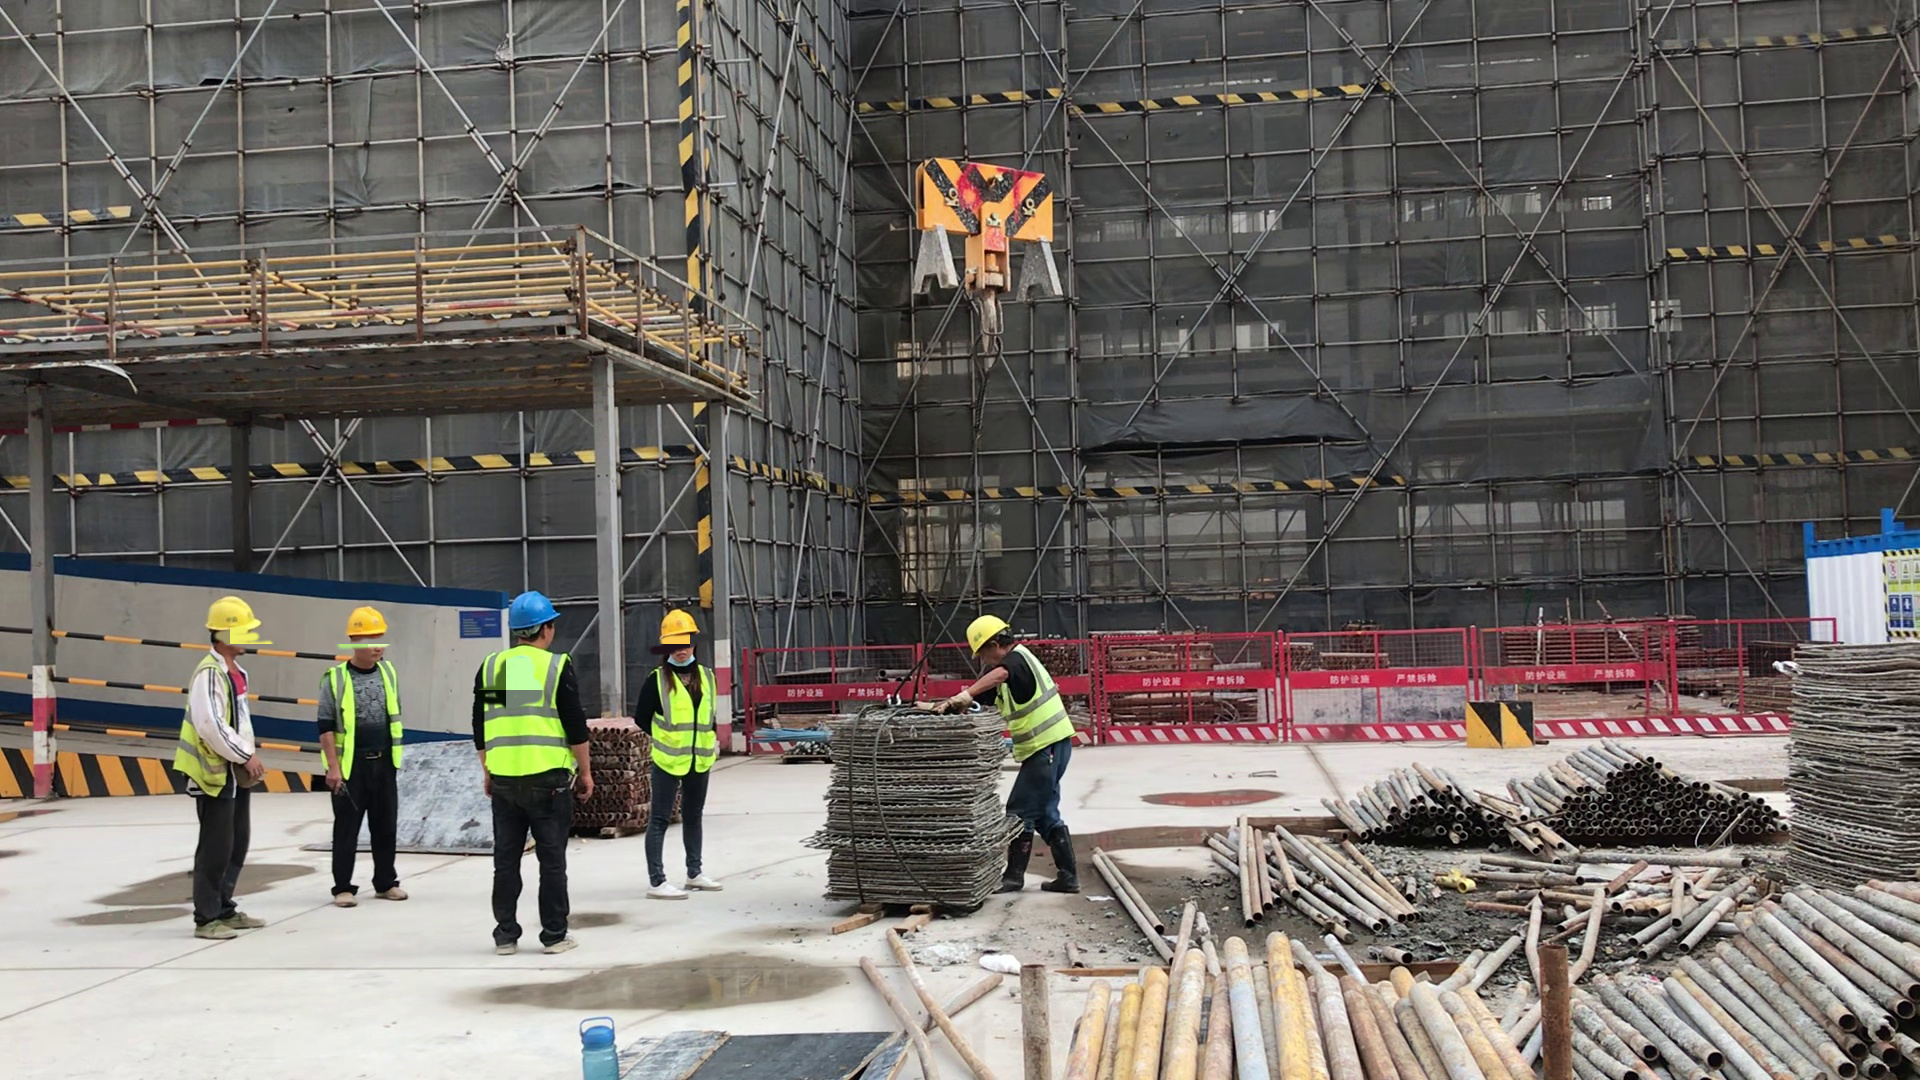helmet: (205, 599, 262, 633), (507, 593, 560, 628), (968, 616, 1008, 656), (348, 607, 386, 635), (659, 613, 697, 637)
person: (474, 595, 586, 953), (969, 618, 1081, 896), (182, 600, 267, 941), (321, 607, 405, 903), (640, 612, 717, 895)
vest: (481, 647, 575, 774), (993, 650, 1078, 757), (324, 661, 404, 773), (652, 665, 717, 776), (178, 687, 229, 796)
